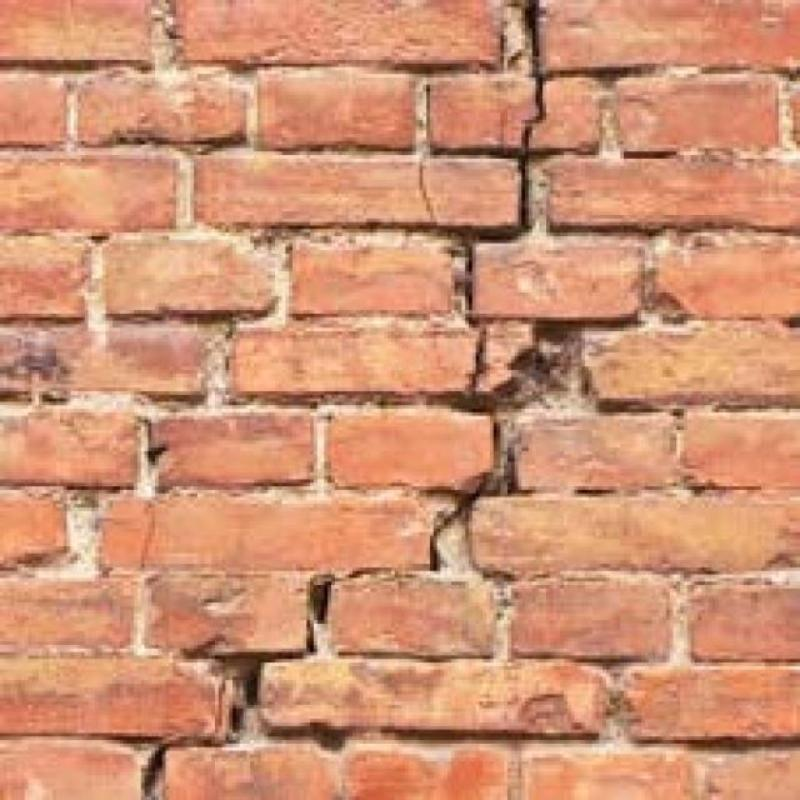pothole: (430, 325, 500, 570), (461, 123, 531, 323), (205, 653, 299, 741), (141, 739, 201, 799), (523, 0, 544, 116), (303, 575, 332, 655), (419, 156, 438, 226), (139, 500, 156, 570)
